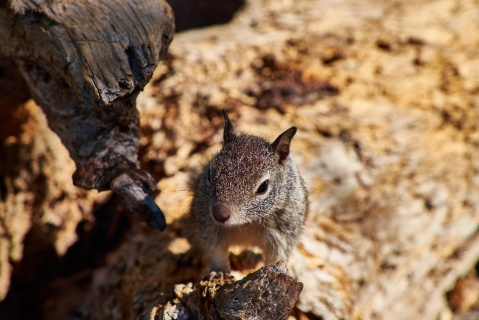Squirrel: (174, 110, 311, 283)
